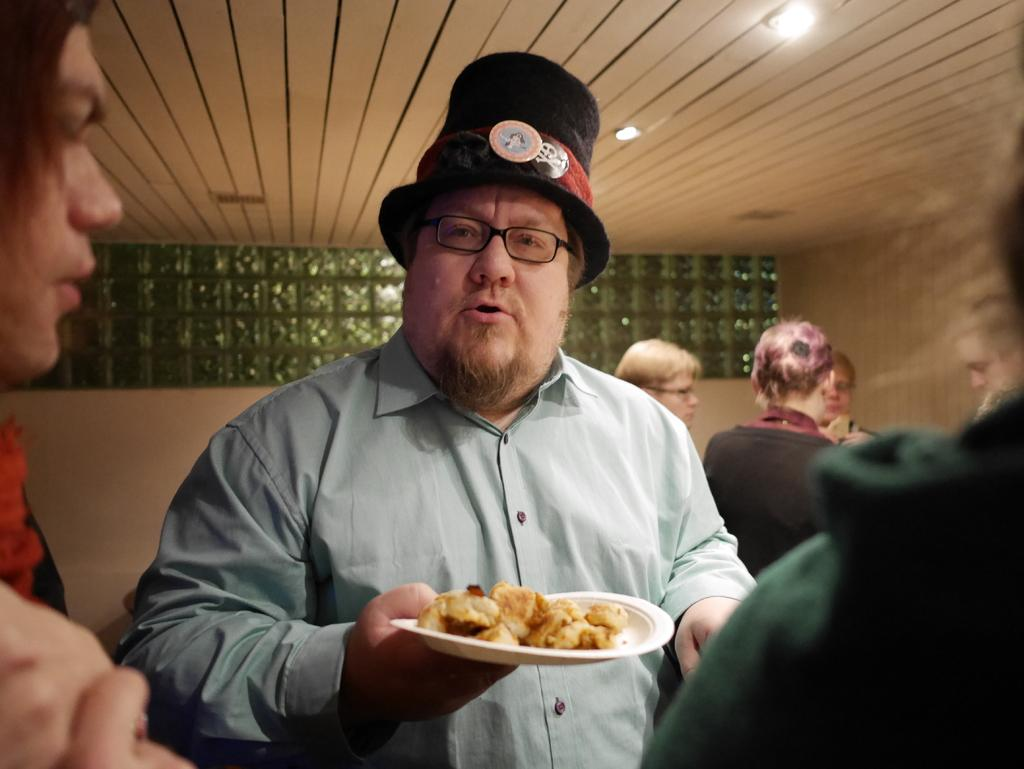Hat: (376, 53, 610, 287)
